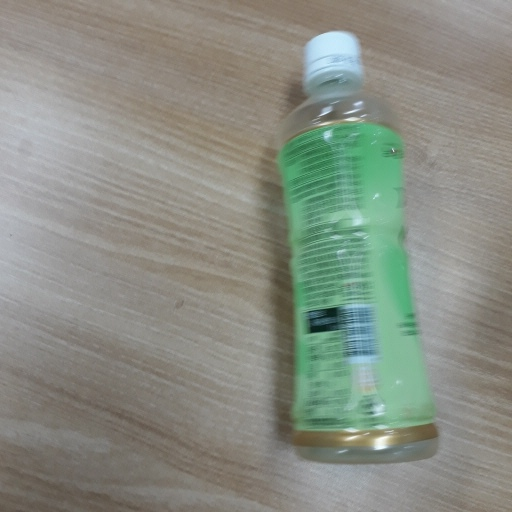Plastic_0: (275, 31, 439, 459)
